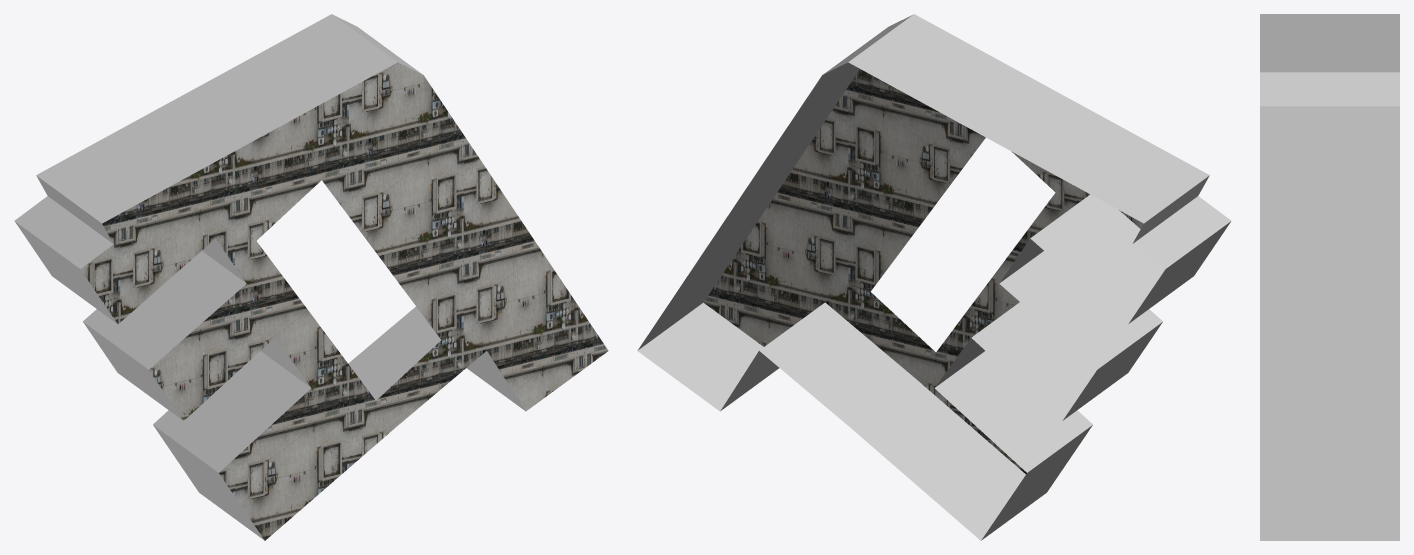
File: geospecific_46.obj
3 views of the same model, side by side, from view 1: azimuth 30°, elevation 25°; view 2: azimuth 150°, elevation 25°; view 3: azimuth 270°, elevation 25° (orthographic). The views are drawn at different scales.
Parts seen in each view (by area): view 1: Building; view 2: Building; view 3: Building.
Part boxes in pixels (left/top/right/bottom): Building: left=14, top=14, right=608, bottom=540; Building: left=637, top=14, right=1231, bottom=540; Building: left=1260, top=14, right=1399, bottom=540.
Size of the model in its own units: 69.27 by 55.91 by 15.
